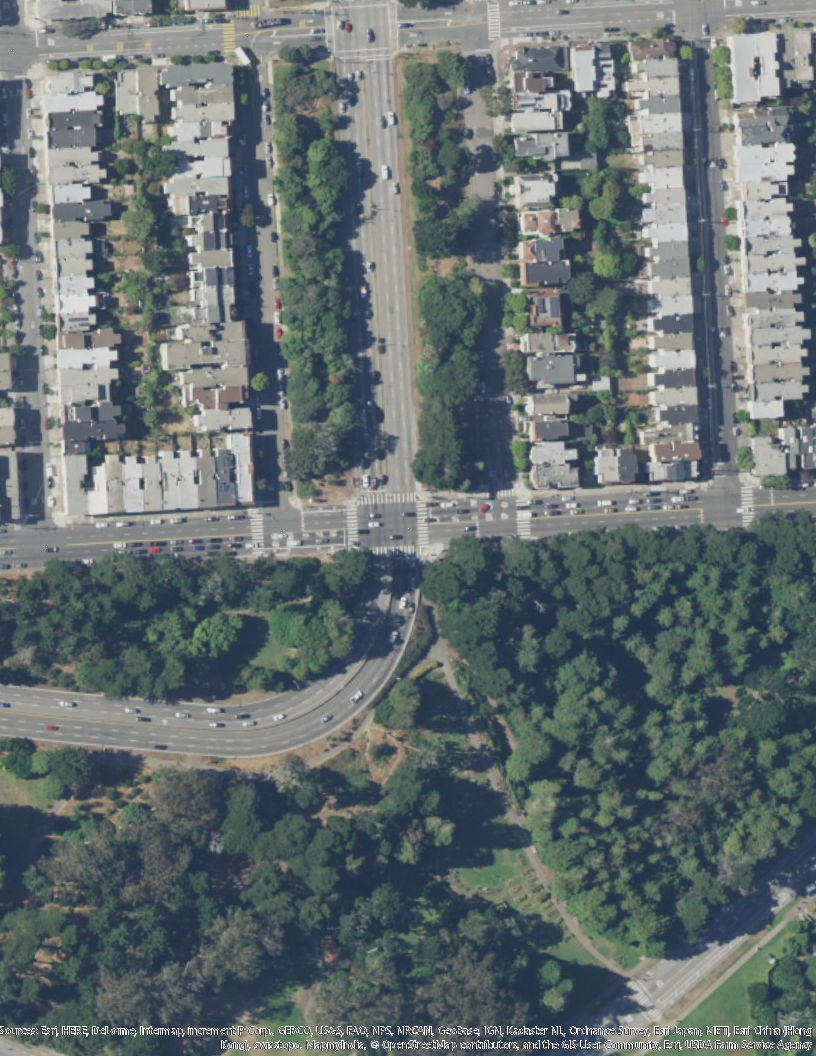zebracross: (360, 492, 421, 505), (415, 504, 431, 546), (371, 545, 420, 558), (345, 505, 360, 546), (487, 1, 502, 41), (250, 513, 265, 548), (518, 500, 532, 536), (224, 20, 237, 50), (234, 5, 261, 19), (498, 483, 514, 496)
